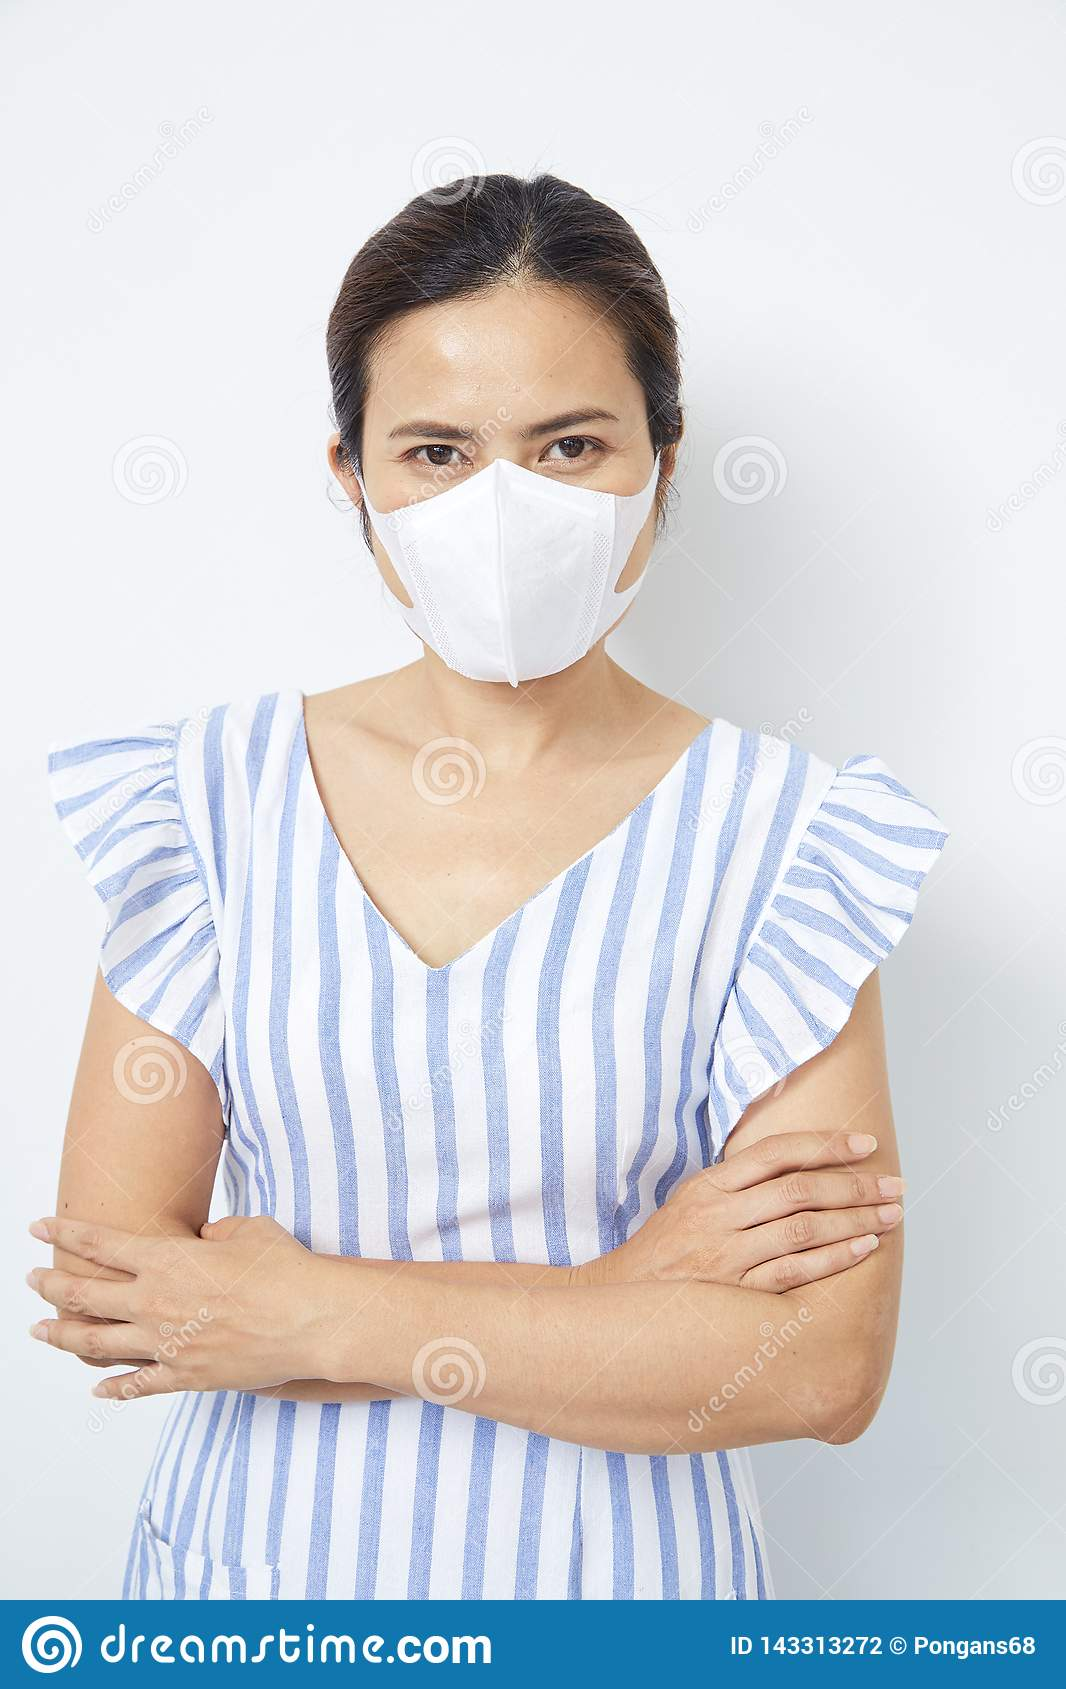mask: (379, 464, 648, 676)
